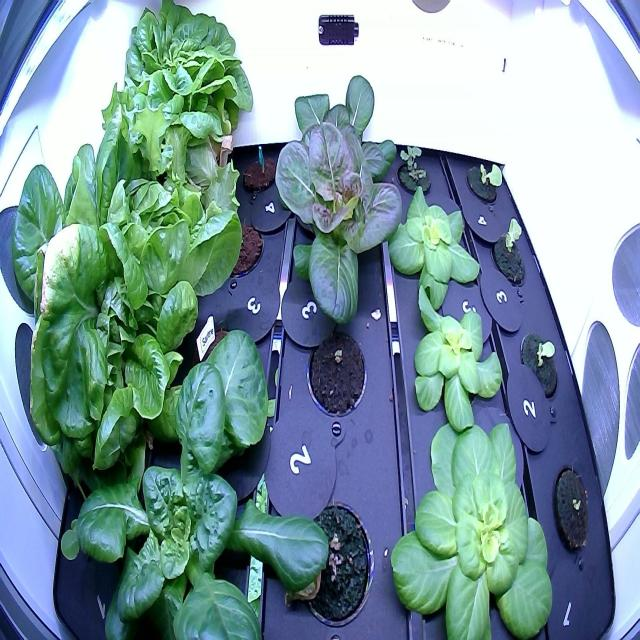Ready: (8, 117, 249, 462), (95, 0, 261, 181)
germination: (288, 491, 378, 638), (302, 311, 374, 424), (546, 454, 598, 561)
pod: (206, 205, 272, 287), (238, 137, 281, 199)
young: (55, 320, 336, 633), (382, 402, 558, 636), (264, 116, 406, 331), (398, 277, 507, 450), (273, 66, 402, 192), (381, 180, 488, 319), (514, 323, 563, 417), (487, 208, 532, 296), (462, 152, 507, 210)
